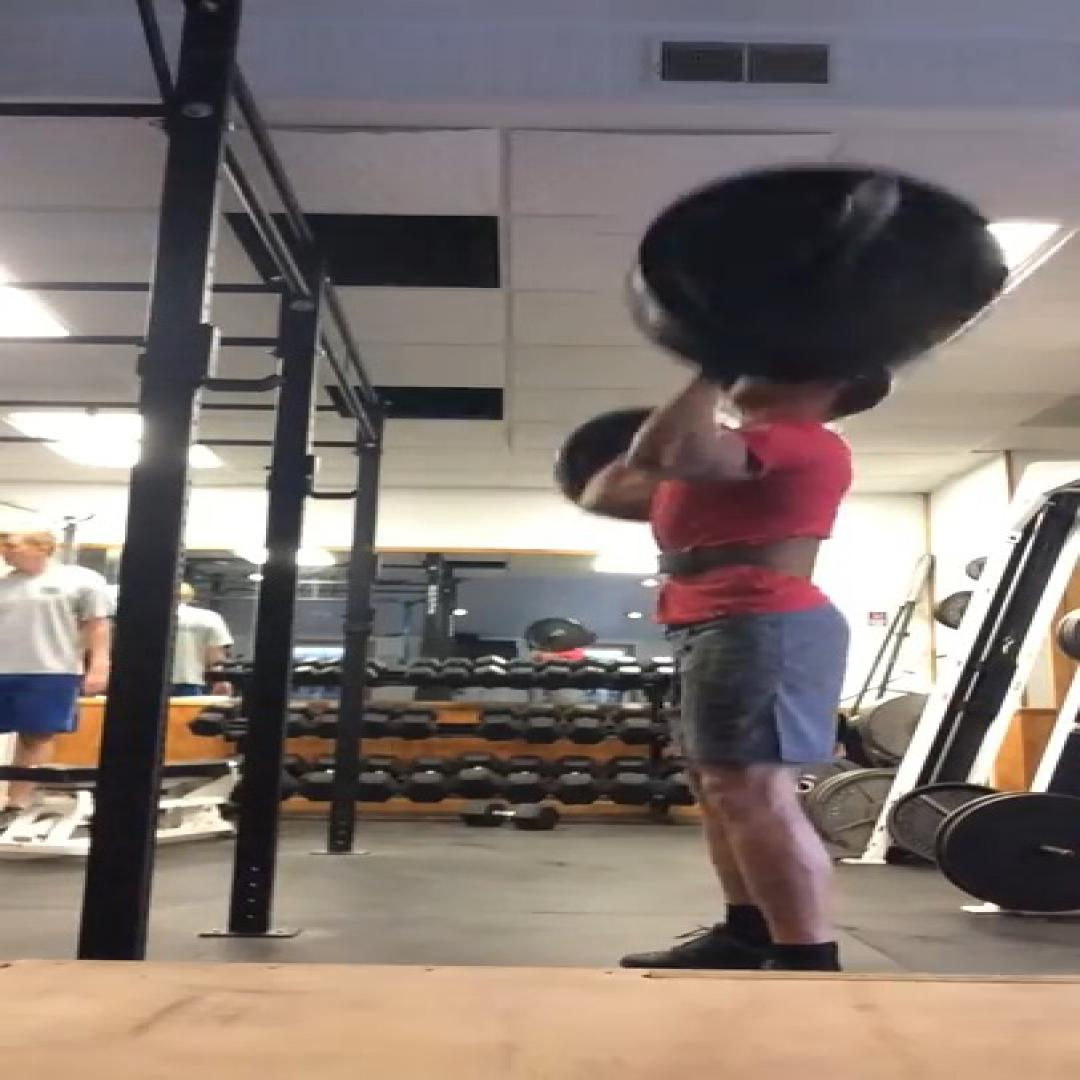Bar: (857, 177, 899, 207)
Barbell: (641, 166, 1003, 344)
